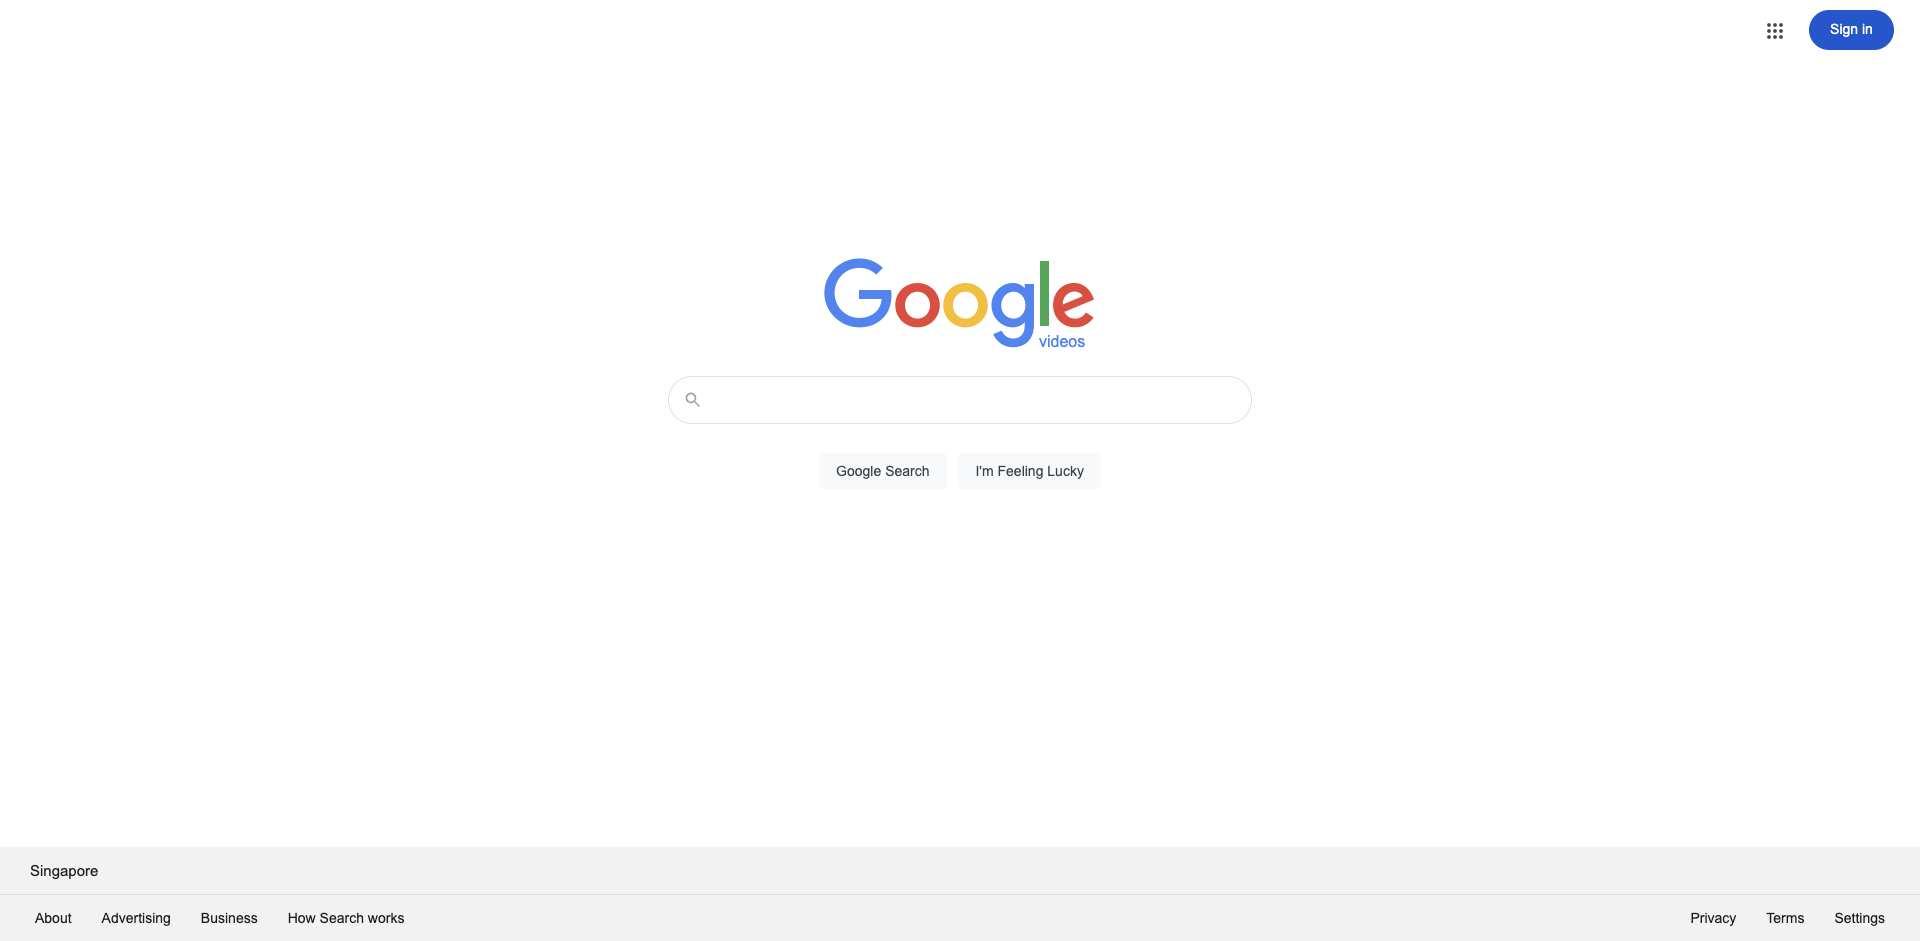button: (1820, 894, 1900, 941), (1755, 11, 1795, 50)
input: (959, 453, 1101, 489), (819, 453, 947, 489)
link: (273, 894, 419, 941), (87, 894, 186, 941), (186, 894, 273, 941), (1675, 894, 1751, 941), (1809, 10, 1894, 50), (1751, 894, 1820, 941), (20, 894, 87, 941)
textarea: (716, 377, 1243, 423)
